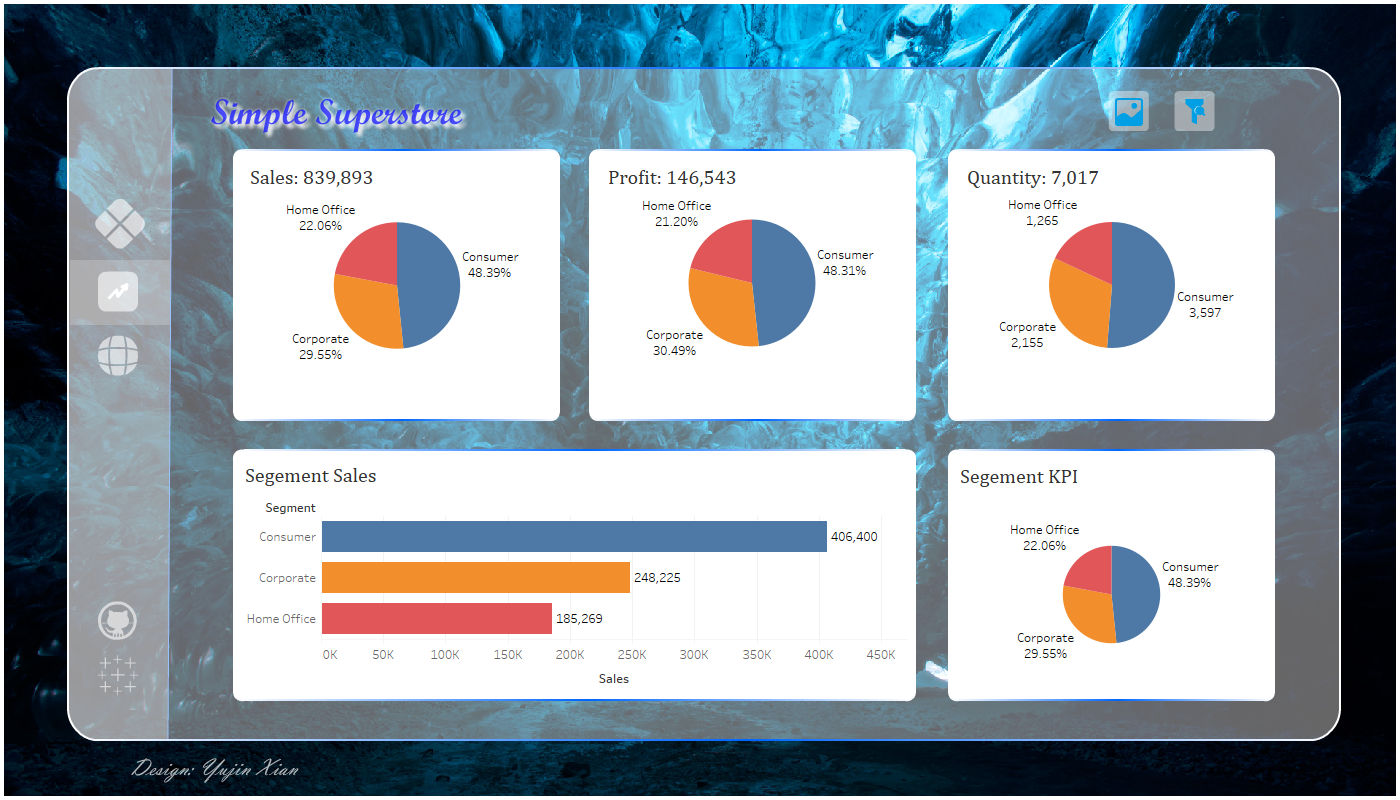

The page's visual inventory and layout, read from the dashboard file:
{"tool":"tableau","page":{"name":"Segment Sales","canvas":[1400,800],"ordinal":2},"visuals":[{"type":"image","param":"E:/My Study/tableau/dashboard/Segment Analysis.png","box":[0,0,1400,800]},{"type":"dashboard-object","box":[1179,96,30,30]},{"type":"dashboard-object","box":[1114,97,30,30]},{"type":"worksheet","title":"Segment Profit","mark":"Pie","box":[593,152,318,262]},{"type":"worksheet","title":"Segment Sale","mark":"Pie","box":[239,155,316,261]},{"type":"worksheet","title":"Segment Quantity","mark":"Pie","box":[954,155,316,260]},{"type":"worksheet","title":"Segment Total Sale","mark":"Automatic","box":[242,161,190,44]},{"type":"worksheet","title":"Segment Toal Profit","mark":"Automatic","box":[597,161,158,35]},{"type":"worksheet","title":"Segment Total Quantity","mark":"Automatic","box":[959,161,181,36]},{"type":"dashboard-object","box":[70,194,100,63]},{"type":"dashboard-object","box":[70,260,100,63]},{"type":"dashboard-object","box":[71,325,100,63]},{"type":"worksheet","title":"Segement Sales","mark":"Automatic","rows":["Segment"],"cols":["Sales"],"box":[237,453,674,245]},{"type":"worksheet","title":"Segement KPI","mark":"Pie","box":[952,454,319,242]},{"type":"image","param":"C:/Users/pc/AppData/Local/Temp/TableauTemp/1ol9i6s0zpl9l51anr2u11gd2vuv/Sheets1/","box":[70,596,100,50]},{"type":"image","param":"C:/Users/pc/AppData/Local/Temp/TableauTemp/1ol9i6s0zpl9l51anr2u11gd2vuv/Sheets1/","box":[70,650,100,50]}]}

Visuals, with their boxes on the page's 1400x800 design canvas (x1, y1, x2, y2). These are canvas units, not pixel positions in the 1400x800 screenshot, which may show the page scaled, cropped or inside an application window:
image: [0, 0, 1400, 800]
dashboard-object: [1179, 96, 1209, 126]
dashboard-object: [1114, 97, 1144, 127]
"Segment Profit" worksheet (Pie marks): [593, 152, 911, 414]
"Segment Sale" worksheet (Pie marks): [239, 155, 555, 416]
"Segment Quantity" worksheet (Pie marks): [954, 155, 1270, 415]
"Segment Total Sale" worksheet: [242, 161, 432, 205]
"Segment Toal Profit" worksheet: [597, 161, 755, 196]
"Segment Total Quantity" worksheet: [959, 161, 1140, 197]
dashboard-object: [70, 194, 170, 257]
dashboard-object: [70, 260, 170, 323]
dashboard-object: [71, 325, 171, 388]
"Segement Sales" worksheet: [237, 453, 911, 698]
"Segement KPI" worksheet (Pie marks): [952, 454, 1271, 696]
image: [70, 596, 170, 646]
image: [70, 650, 170, 700]
